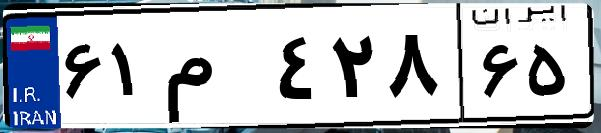1: (110, 28, 158, 98)
2: (330, 28, 385, 110)
4: (270, 28, 330, 110)
5: (525, 38, 570, 115)
6: (57, 26, 110, 100), (475, 38, 525, 113)
8: (385, 28, 445, 110)
م: (158, 20, 270, 120)
